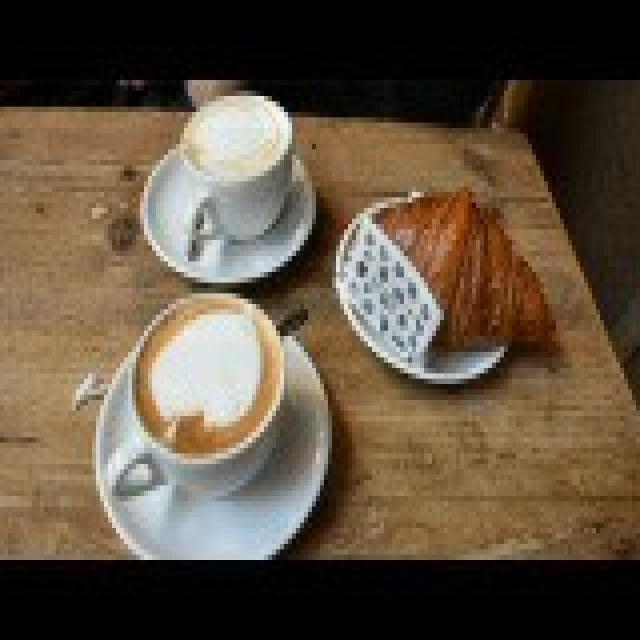Cup: (104, 288, 284, 496), (176, 91, 292, 256)
Plate: (88, 317, 349, 561), (332, 187, 508, 384), (136, 138, 316, 282)
